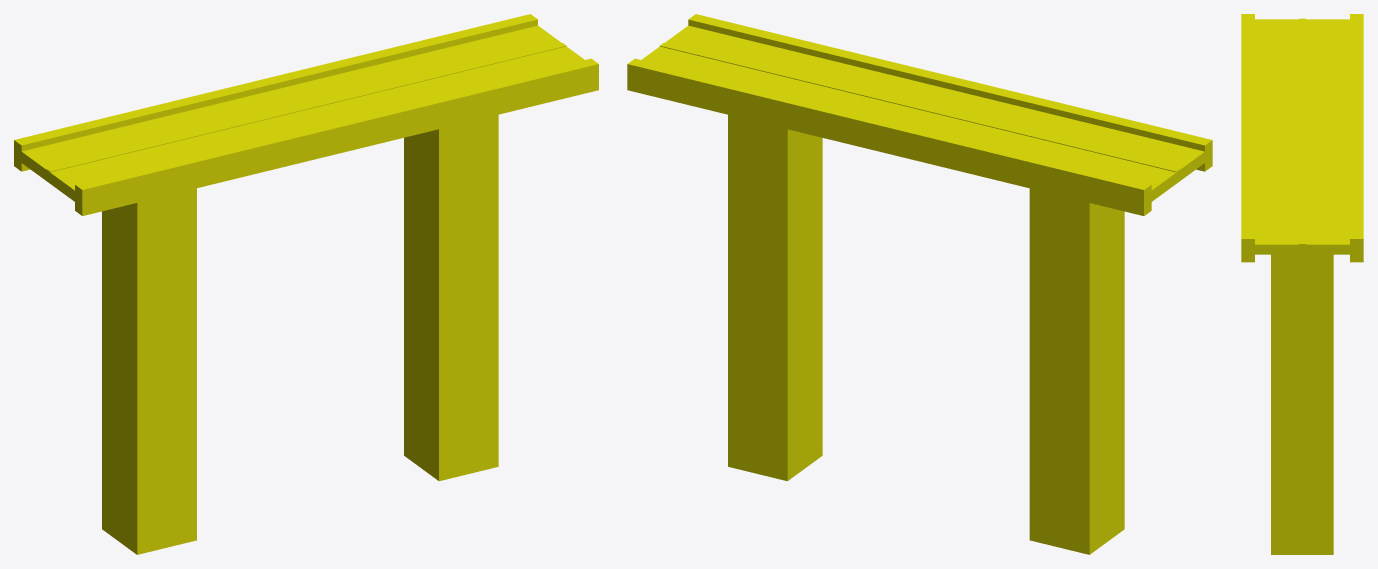
The picture shows the model from 3 angles, left to right: view 1: azimuth 30°, elevation 25°; view 2: azimuth 150°, elevation 25°; view 3: azimuth 270°, elevation 25°; orthographic projection. The views are drawn at different scales.
Visible parts, largest first — view 1: cau; view 2: cau; view 3: cau.
Part boxes in pixels (x1,y1,x2,y2): cau: (14, 14, 598, 554); cau: (627, 14, 1212, 554); cau: (1241, 14, 1363, 554).
Size of the model in its own units: 13.38 by 9.76 by 3.07.
Materials: 1 (1 with a texture image).
